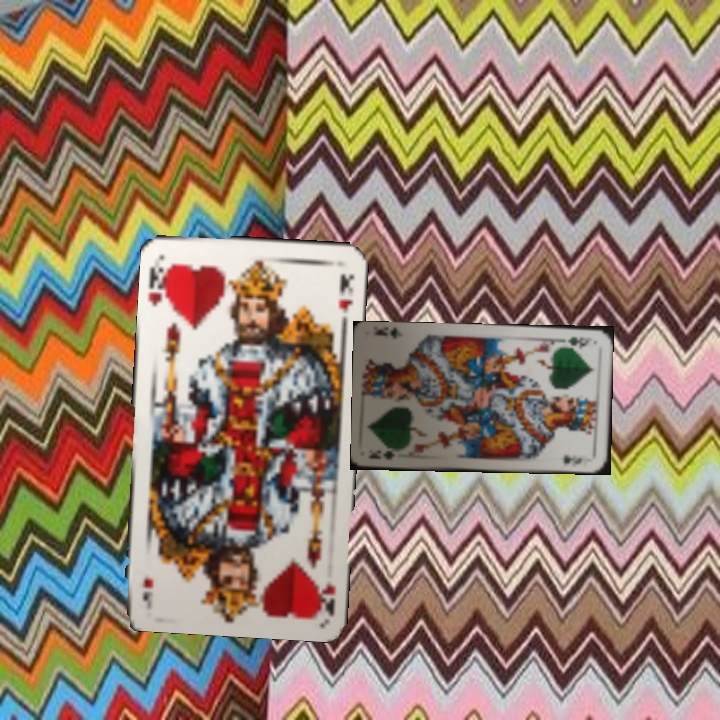GK: (556, 332, 595, 349), (365, 446, 398, 463)
HK: (144, 260, 174, 310), (312, 580, 339, 616)
